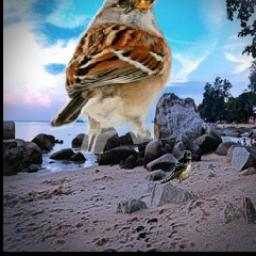Sparrow: (51, 0, 173, 155)
Swallow: (153, 151, 192, 185)
